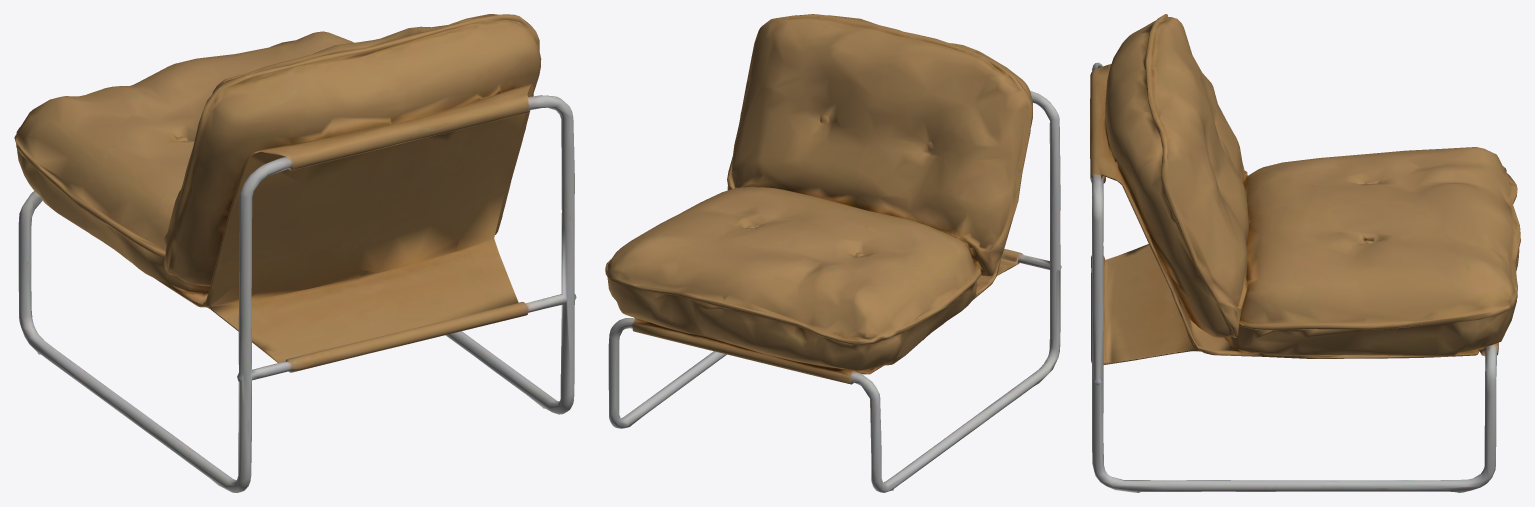
The model's file is armchair.lod1.glb.
3 views of the same model, side by side, from view 1: azimuth 30°, elevation 25°; view 2: azimuth 150°, elevation 25°; view 3: azimuth 270°, elevation 25° (orthographic). The views are drawn at different scales.
Visible parts, largest first — view 1: tripo_node_f454b1dc-a547-447d-a398-20fbfa8032ba; view 2: tripo_node_f454b1dc-a547-447d-a398-20fbfa8032ba; view 3: tripo_node_f454b1dc-a547-447d-a398-20fbfa8032ba.
Boxes of the visible parts, left/top/right/bottom form: tripo_node_f454b1dc-a547-447d-a398-20fbfa8032ba: left=14, top=14, right=576, bottom=492; tripo_node_f454b1dc-a547-447d-a398-20fbfa8032ba: left=605, top=14, right=1061, bottom=492; tripo_node_f454b1dc-a547-447d-a398-20fbfa8032ba: left=1090, top=14, right=1520, bottom=492.
Bounding box in the file's own units: 0.7217 × 0.77 × 0.8461.
1 material, 1 textured.
